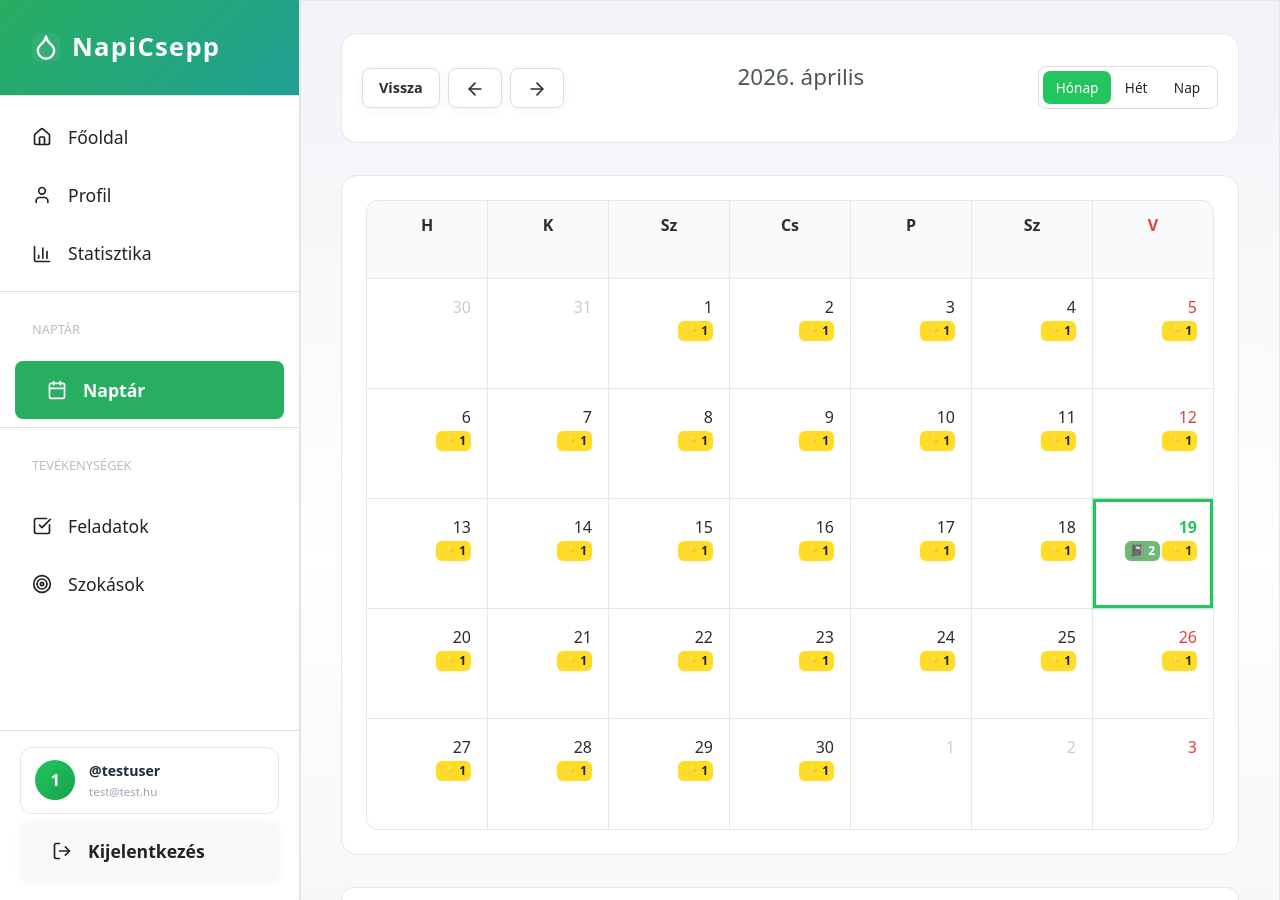
Test: Naptár - Havi nézet popupok és CRUD › 27 - EventPopup "Mégse" gomb bezárja a popupot
Click the element with class "current-day" at point(1153, 554), box [1093,499,1213,608]
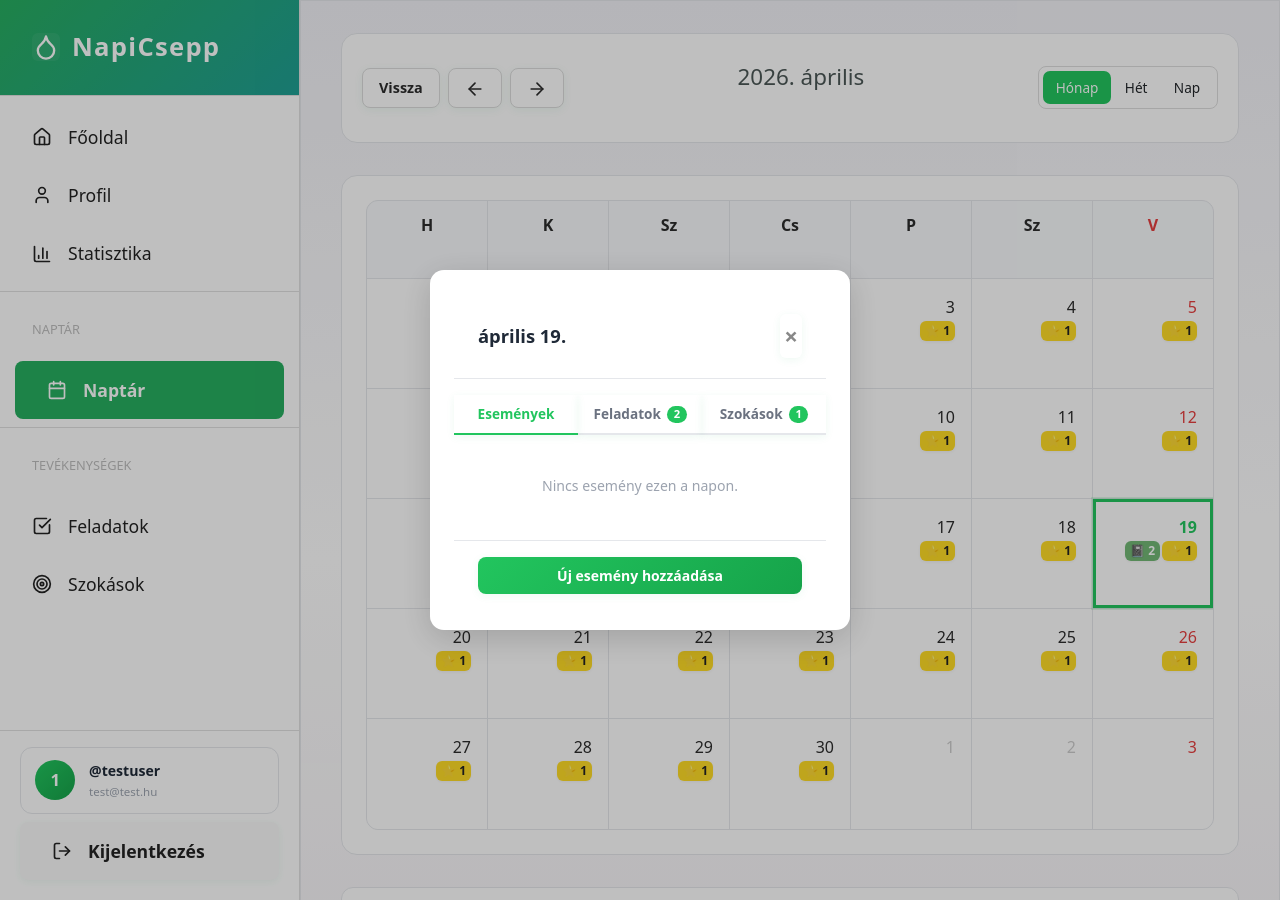
Click the button with class "btn-save" at point(640, 576), box [478,557,802,594]
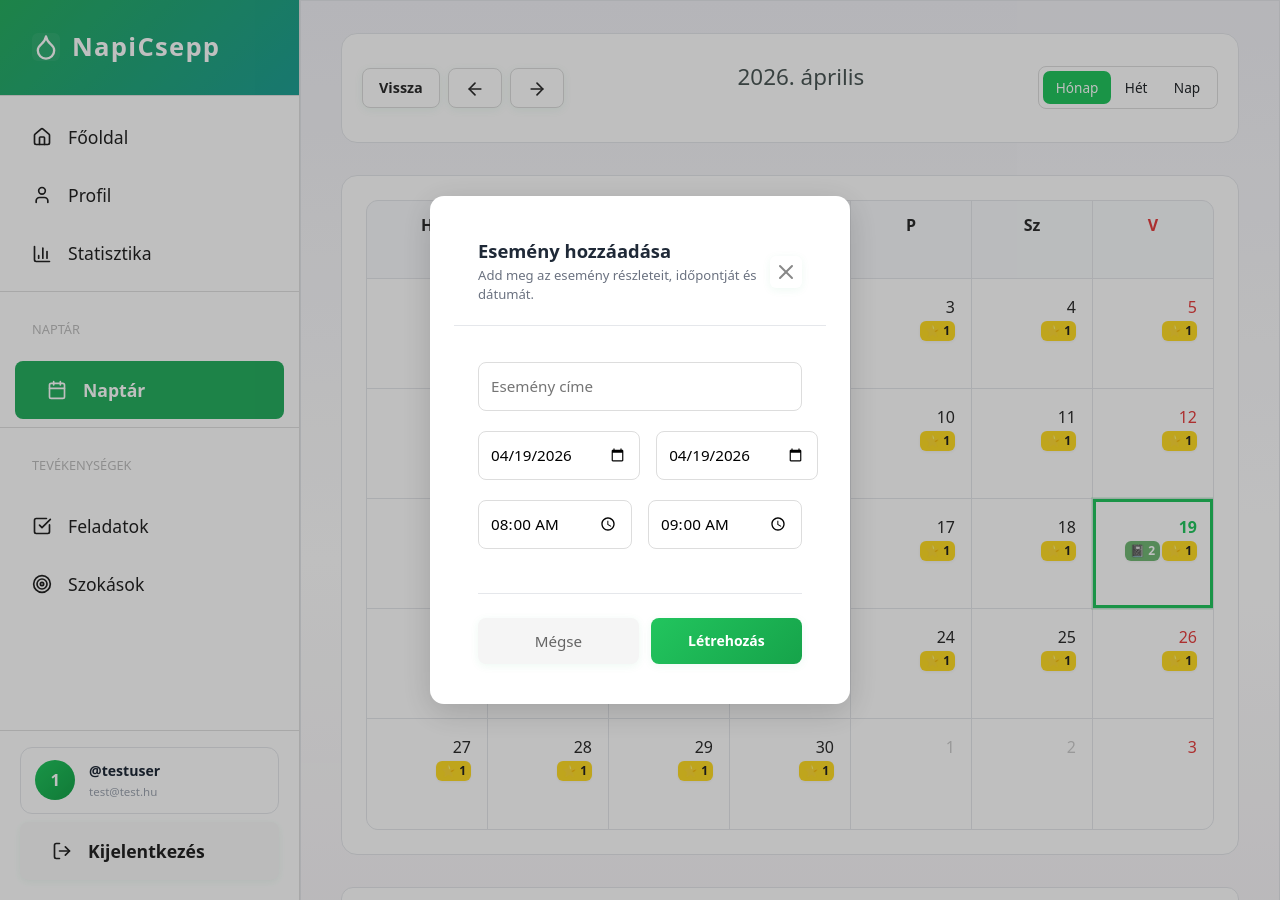
Click the button with class "btn-cancel" at point(559, 642), box [478,618,639,665]
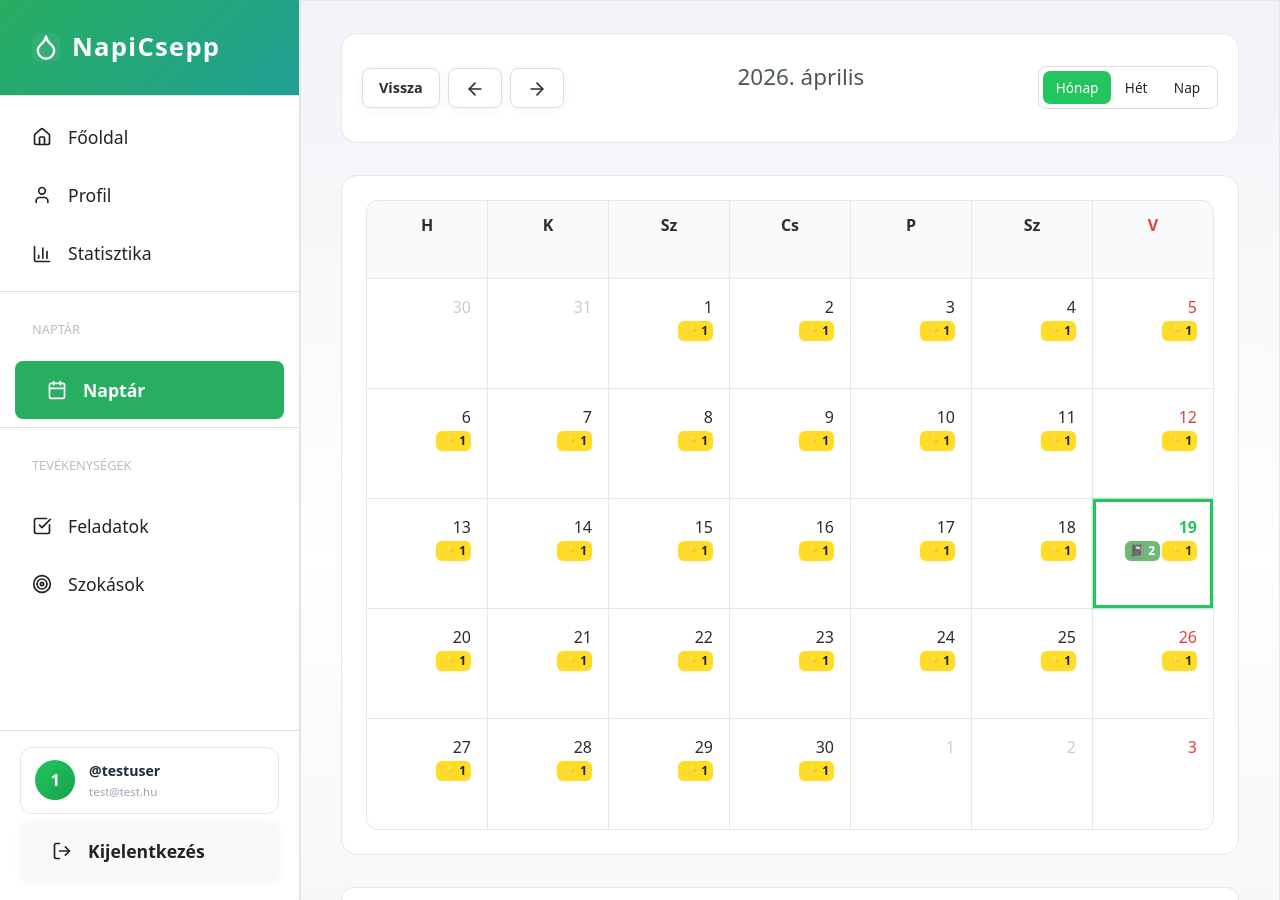
Expected: the form is gone
